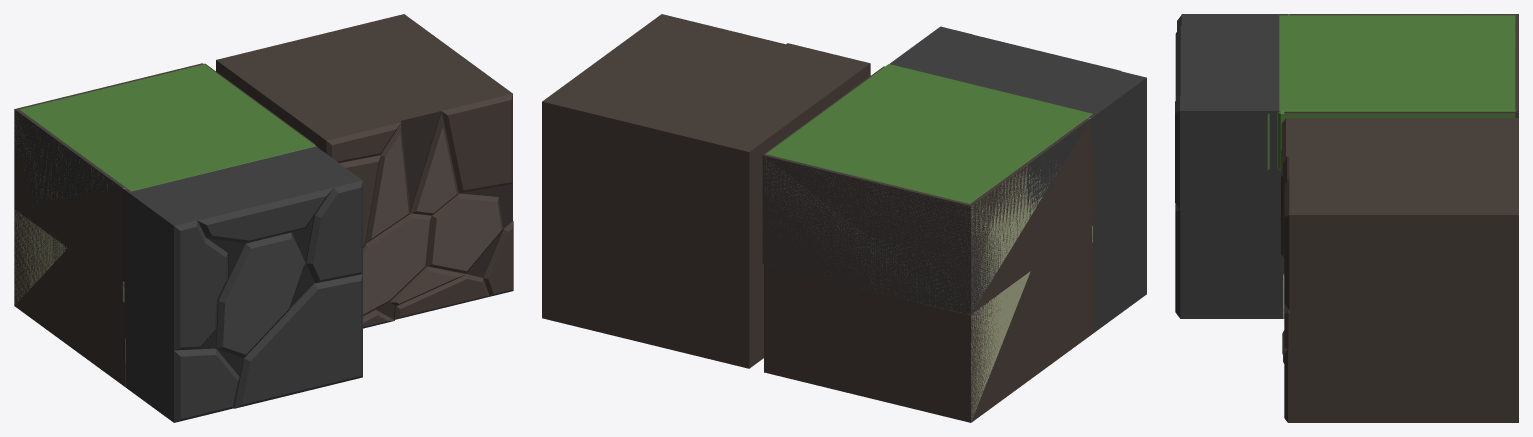
Rendered from FinalFinalFinal.fbx.
3 views of the same model, side by side, from view 1: azimuth 30°, elevation 25°; view 2: azimuth 150°, elevation 25°; view 3: azimuth 270°, elevation 25° (orthographic). The views are drawn at different scales.
Parts seen in each view (by area): view 1: Cube.009, Cube.003, Cube, Cube.001, Cube.011, Cube.004, Cube.006, Cube.014; view 2: Cube.003, Cube.001, Cube, Cube.009, Cube.014, Cube.005, Cube.004, Cube.011, Cube.006, Cube.007; view 3: Cube.003, Cube.009, Cube, Cube.014, Cube.001, Cube.012, Cube.004.
Part boxes in pixels (x1,y1,x2,y2): Cube.009: (65,146,362,422); Cube.003: (216,14,513,328); Cube: (19,64,316,191); Cube.001: (14,63,203,387); Cube.011: (14,121,122,284); Cube.004: (14,63,202,247); Cube.006: (14,110,125,387); Cube.014: (216,61,512,230); Cube.003: (542,14,870,368); Cube.001: (764,115,1095,422); Cube: (765,64,1092,203); Cube.009: (890,26,1146,332); Cube.014: (542,65,867,261); Cube.005: (764,118,1089,314); Cube.004: (764,118,1088,315); Cube.011: (764,119,1091,313); Cube.006: (971,117,1092,420); Cube.007: (765,157,1024,315); Cube.003: (1281,118,1518,422); Cube.009: (1175,14,1288,318); Cube: (1267,15,1515,170); Cube.014: (1281,178,1518,319); Cube.001: (1290,14,1518,117); Cube.012: (1284,111,1517,117); Cube.004: (1290,14,1518,116).
Size of the model in its own units: 415 by 200 by 300.
